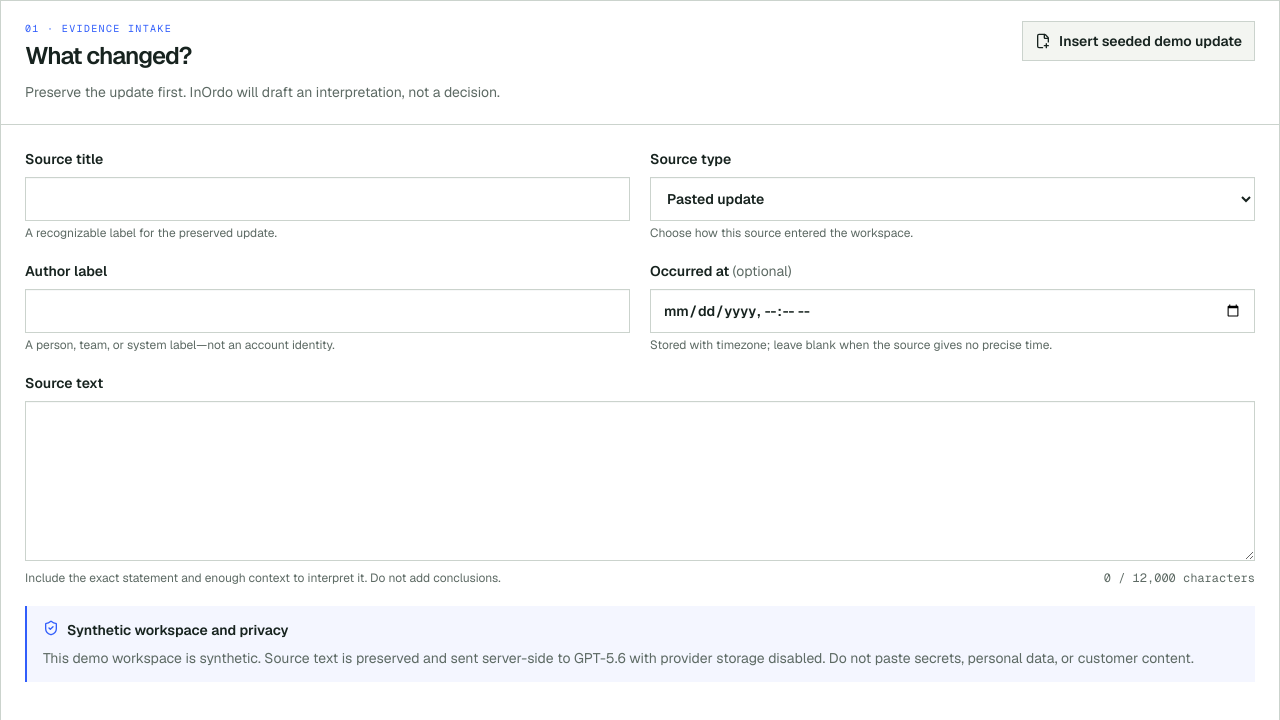
SourceUpdateForm › sends the exact strict analyze payload and reports completion
This screenshot has width=1280, height=720.
Type "Venue note" into the field labelled "Source title" at (328, 199), box [25,177,630,221]
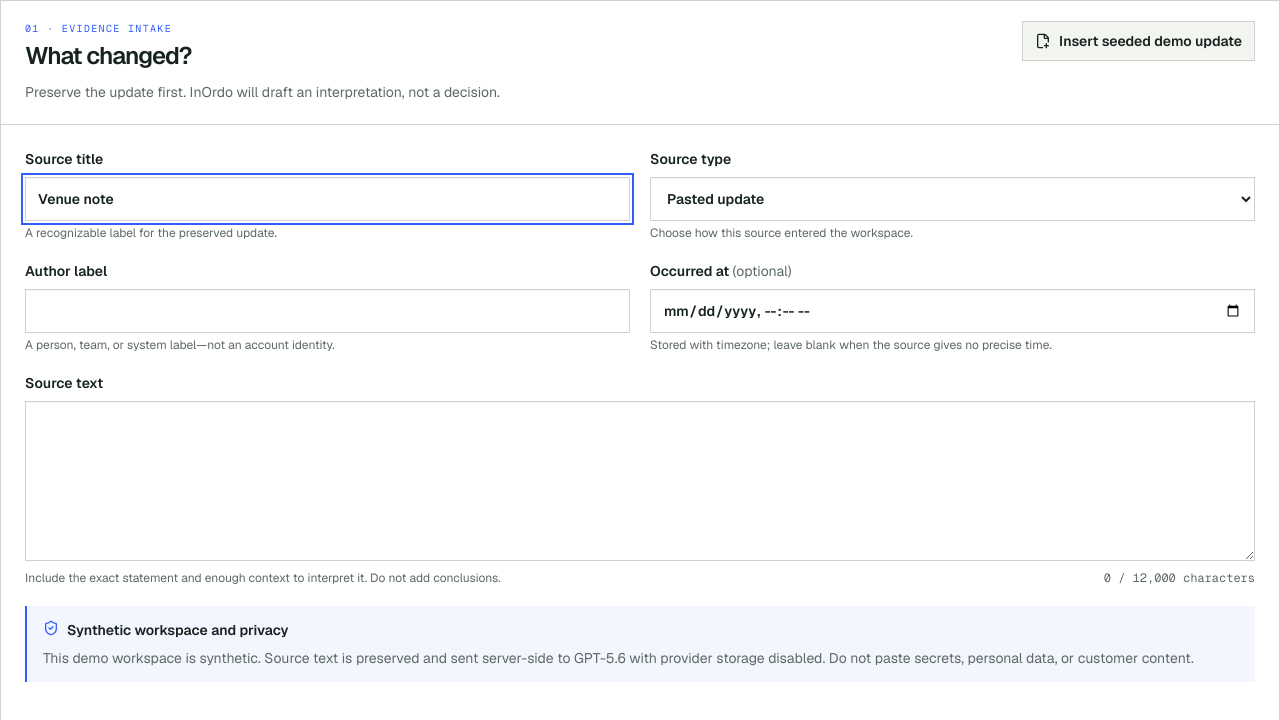
Select "Manual note" in the dropdown labelled "Source type" at (952, 199), box [650,177,1255,221]
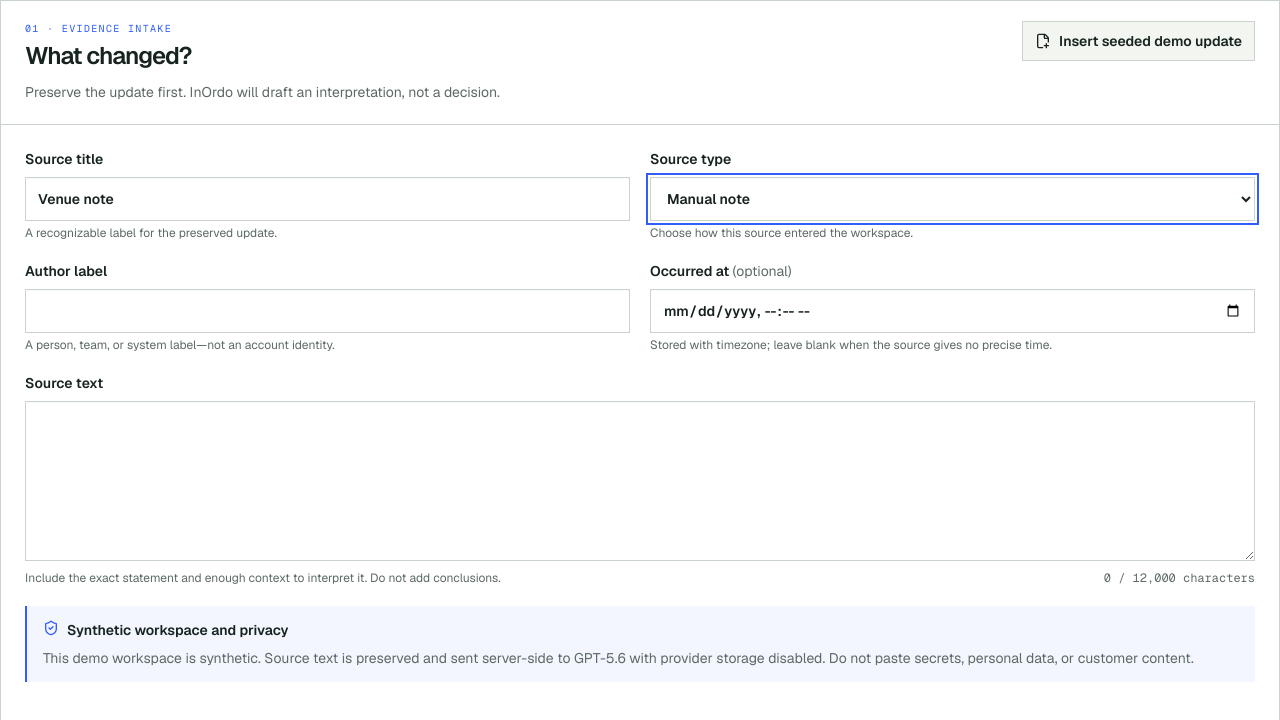
Type "Venue team" into the field labelled "Author label" at (328, 311), box [25,289,630,333]
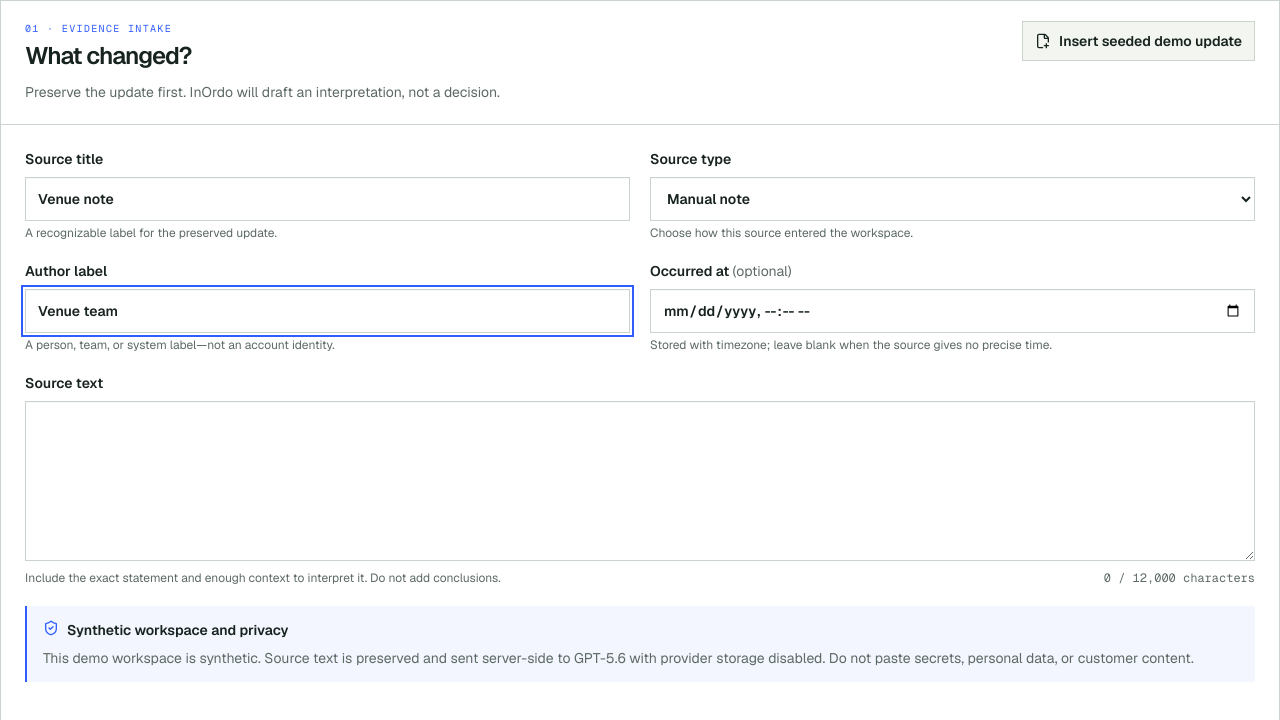
Type "2026-07-20T09:30" into the field labelled "Occurred at" at (952, 311), box [650,289,1255,333]
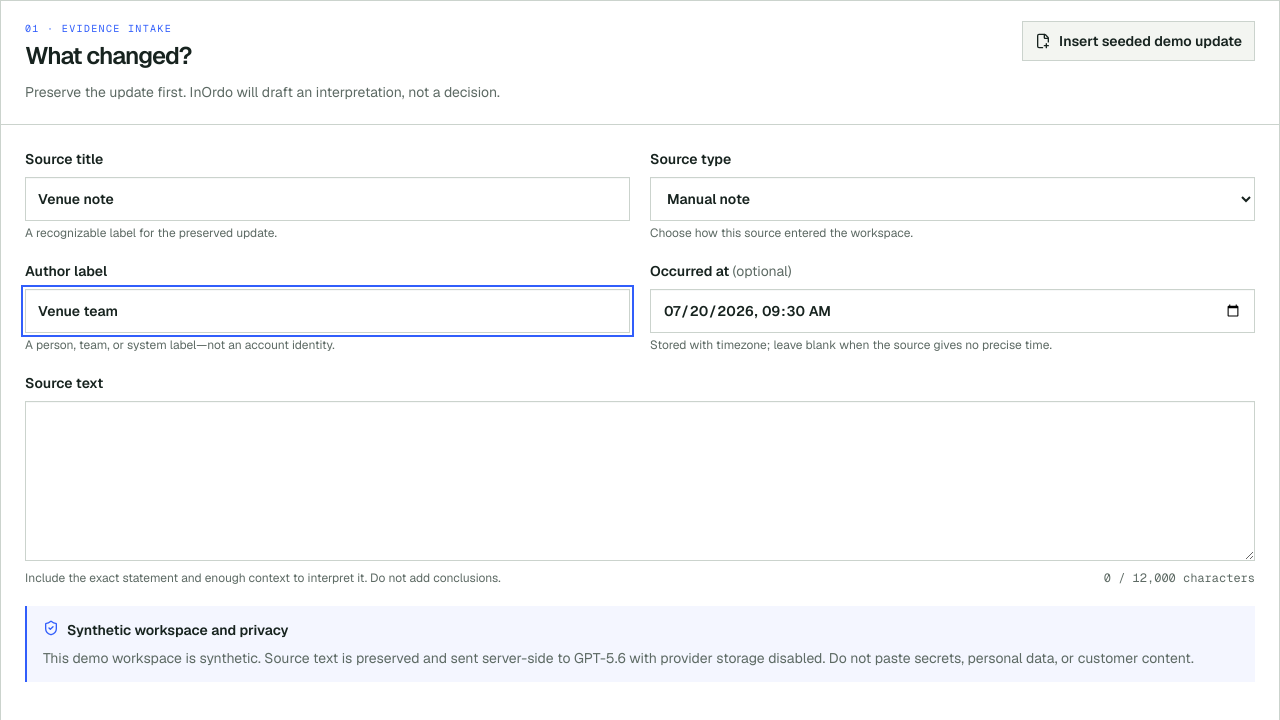
Type "The event moved." into the text box labelled "Source text" at (640, 481), box [25,401,1255,561]
(page scrolled)
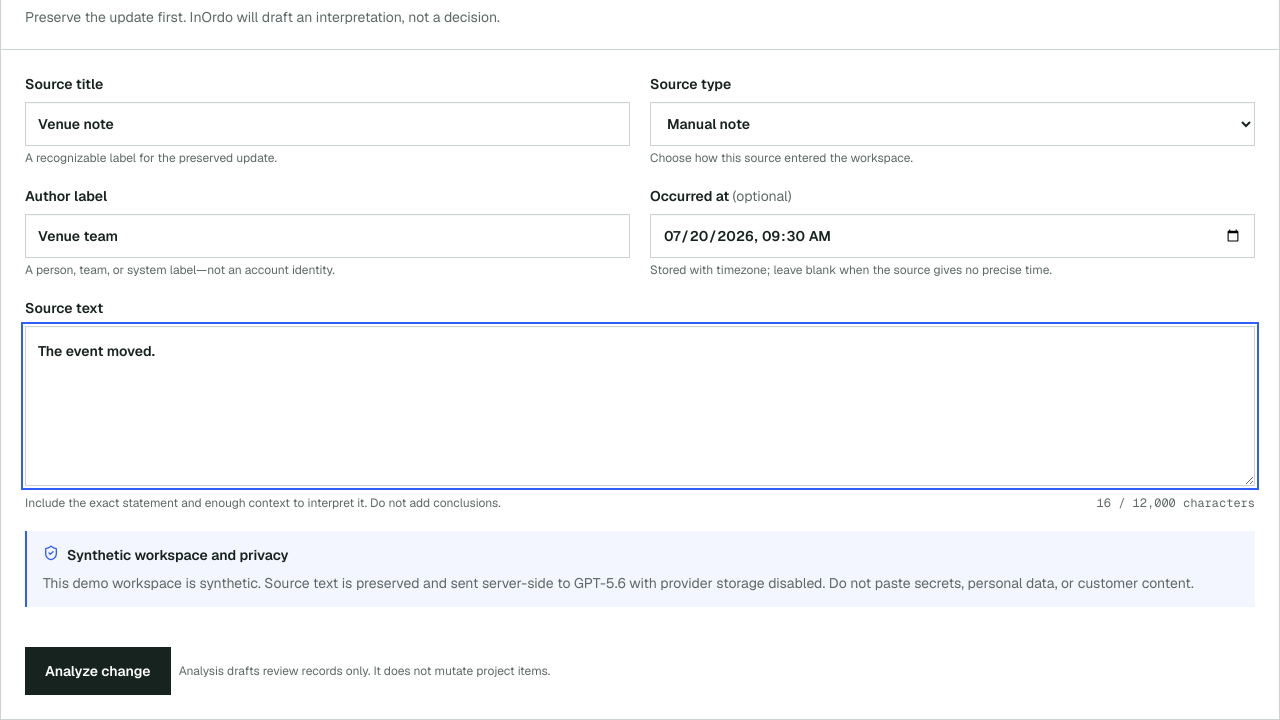
Click the button "Analyze change" at (98, 671), box [25,647,171,695]
(page scrolled)
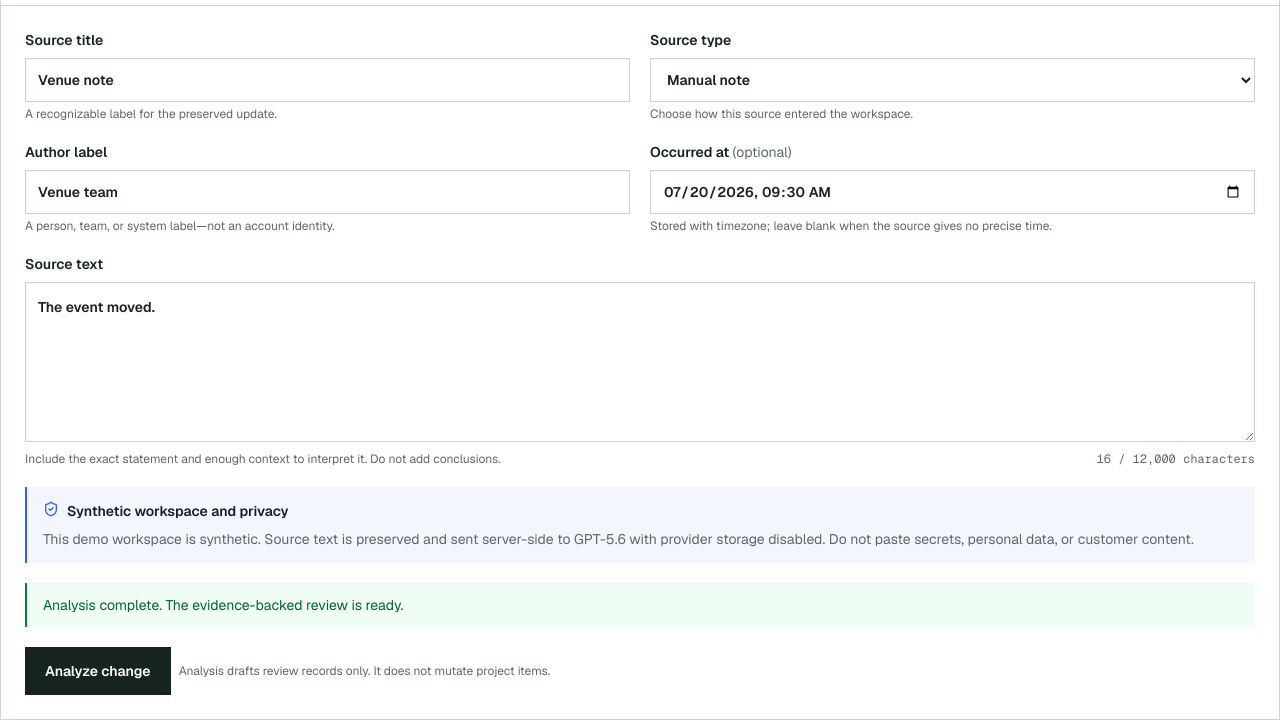
Check: the message shows "Analysis complete", box [43,596,403,614]
